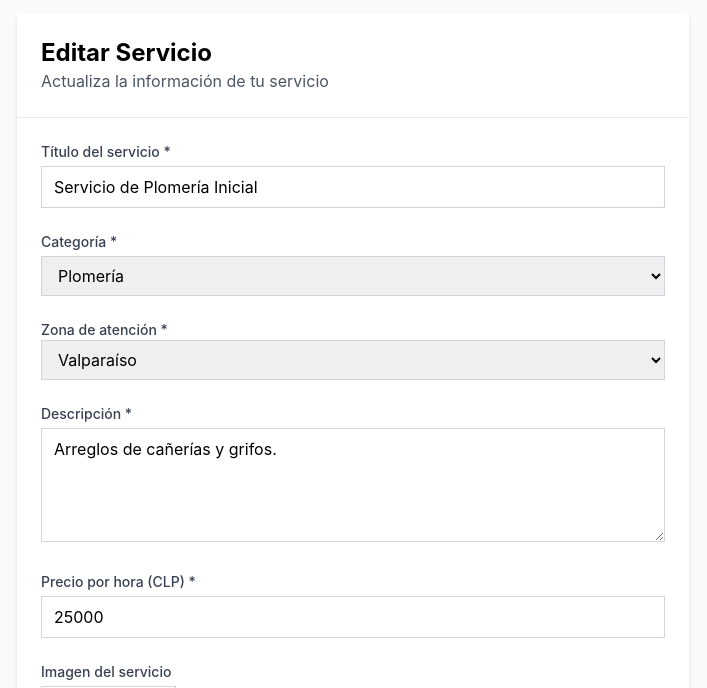
Test: Página de Edición de Servicio (EditServicePage) › debería mostrar errores de validación al enviar un formulario inválido
The image size is (707, 688).
Expected: the heading "Editar Servicio" is shown, [41, 38, 212, 67]
Clear the field labelled "Título del servicio *". click: (353, 187)
box: [41, 166, 665, 208]
(page scrolled)
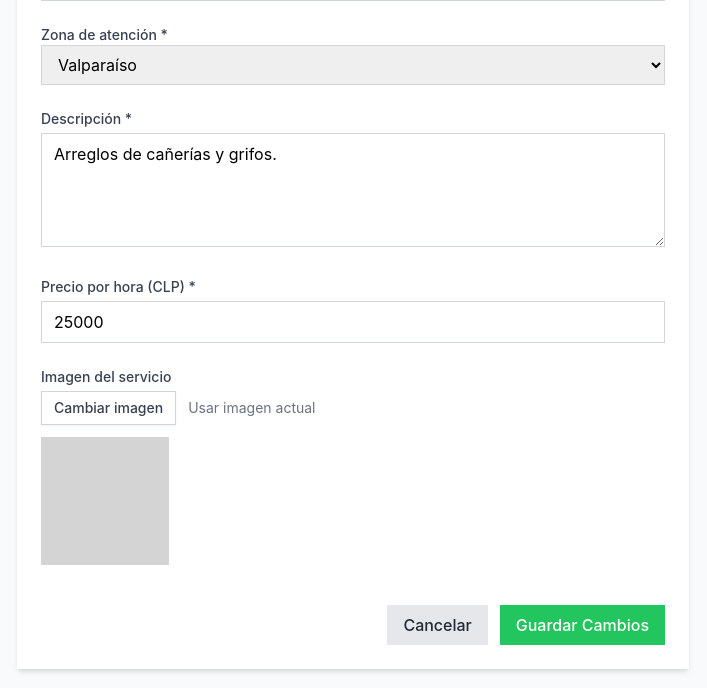
Click the button "Guardar Cambios". click: (582, 625)
box: [500, 605, 665, 645]
(page scrolled)
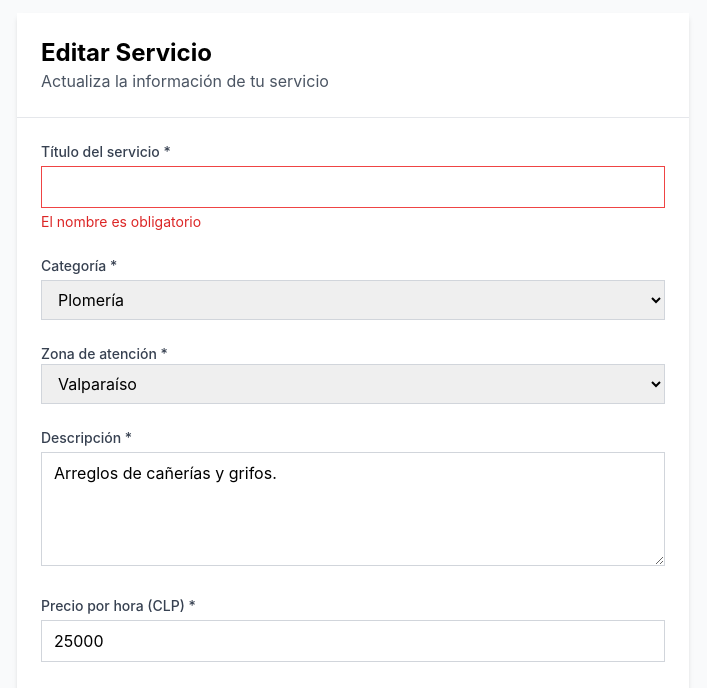
Expected: the text "El nombre es obligatorio" is shown, [41, 213, 201, 230]
